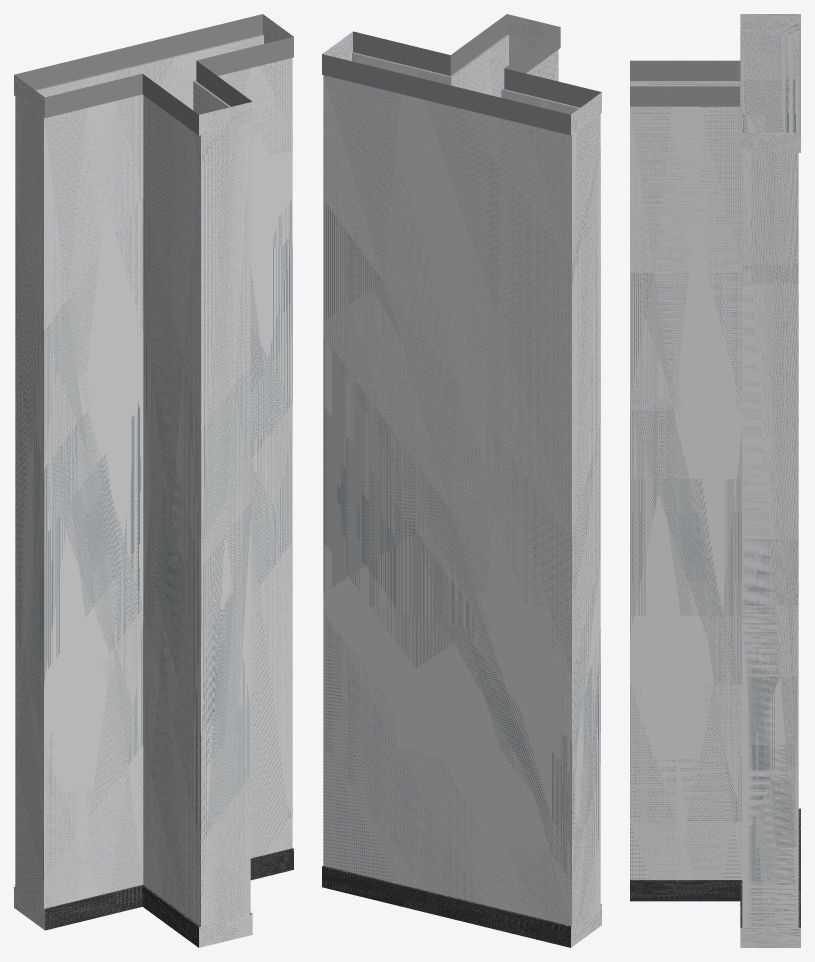
Rendered from Corner_ds_double_plinth_050x050x025x4.dae.
3 views of the same model, side by side, from view 1: azimuth 30°, elevation 25°; view 2: azimuth 150°, elevation 25°; view 3: azimuth 270°, elevation 25° (orthographic). The views are drawn at different scales.
Parts seen in each view (by area): view 1: group_0 (×6); view 2: group_0 (×5); view 3: group_0 (×4).
Boxes of the visible parts, box(x1,y1,x2,y2) form: group_0 (×6): box(14, 14, 293, 947); group_0 (×5): box(322, 14, 601, 947); group_0 (×4): box(630, 14, 800, 947).
Size of the model in its own units: 49.21 by 29.92 by 157.
